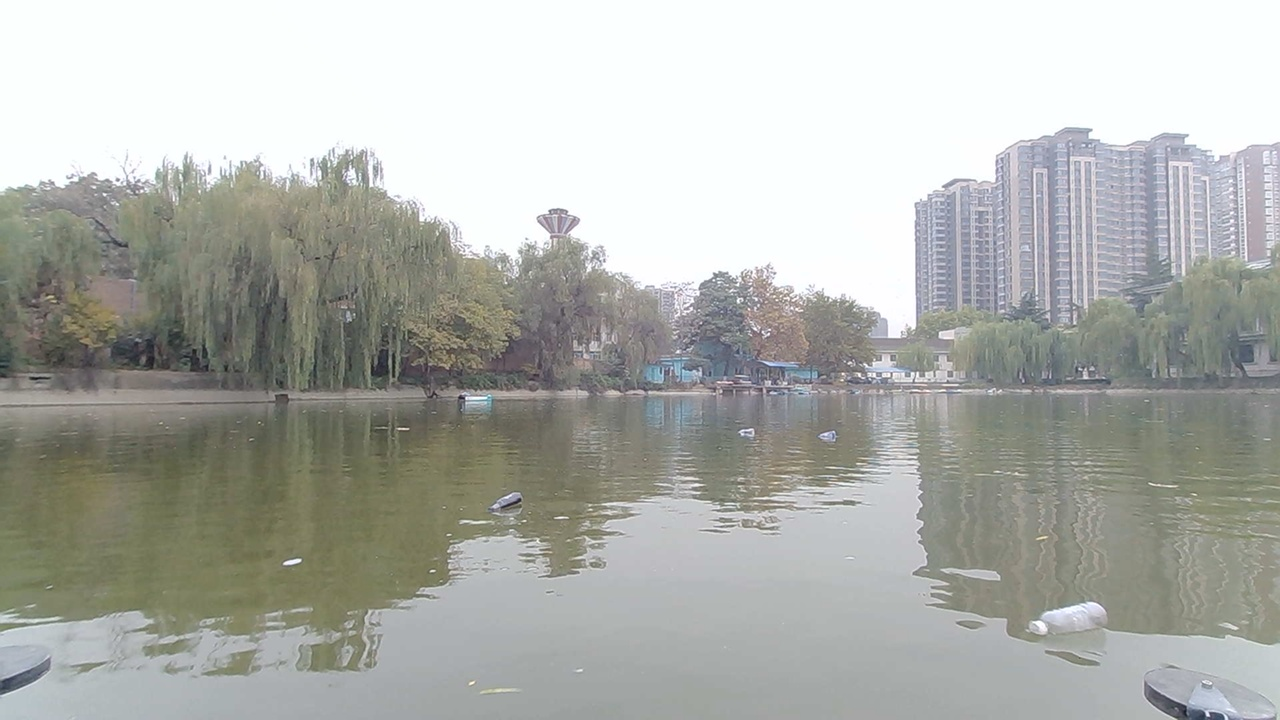bottle: (1028, 593, 1106, 648), (484, 488, 527, 517), (728, 418, 762, 448), (812, 427, 845, 444)
